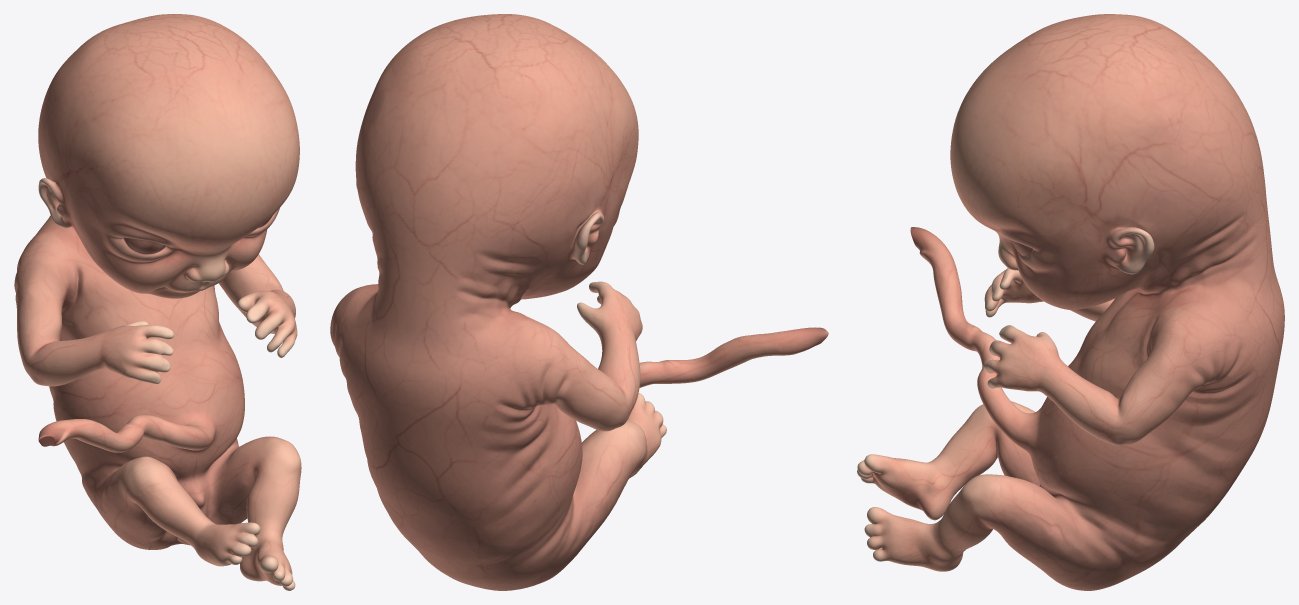
The model's file is semaine-12.glb.
3 renders of one model, left to right at view 1: azimuth 30°, elevation 25°; view 2: azimuth 150°, elevation 25°; view 3: azimuth 270°, elevation 25°, orthographic. The views are drawn at different scales.
Bounding box in the file's own units: 1.34 × 1.9 × 1.35.
Materials: 1 (1 with a texture image).
